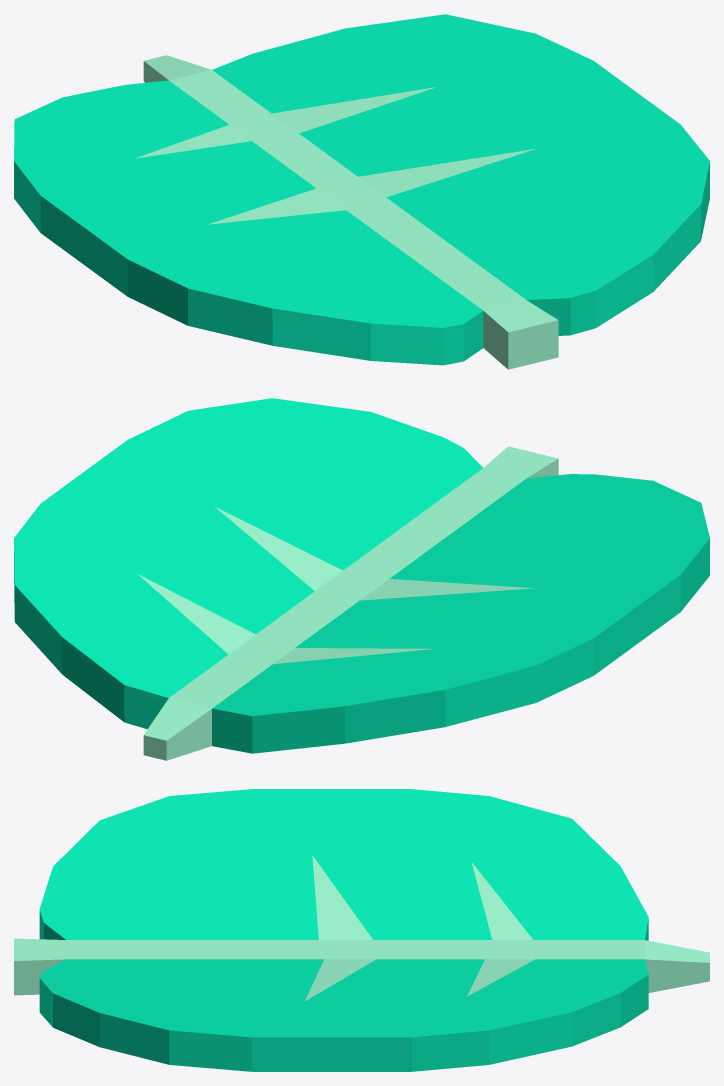
The model's file is Lettuce.fbx.
The picture shows the model from 3 angles, top to bottom: view 1: azimuth 30°, elevation 25°; view 2: azimuth 150°, elevation 25°; view 3: azimuth 270°, elevation 25°; orthographic projection. The views are drawn at different scales.
Visible parts, largest first — view 1: Lettuce; view 2: Lettuce; view 3: Lettuce.
Boxes of the visible parts, x1,y1,x2,y2 form: Lettuce: (14, 14, 709, 369); Lettuce: (14, 398, 709, 760); Lettuce: (14, 789, 709, 1071).
Size of the model in its own units: 0.0708 by 0.00943 by 0.0839.
